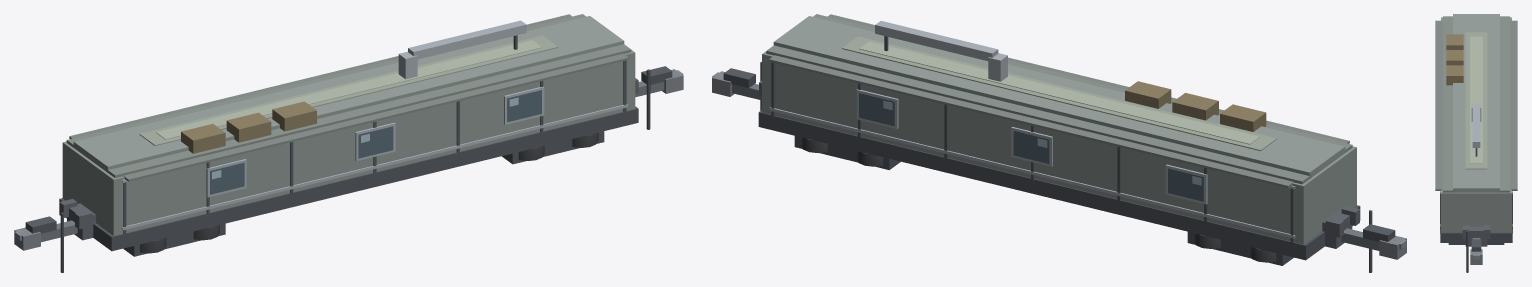
Rendered from repair.glb.
3 views of the same model, side by side, from view 1: azimuth 30°, elevation 25°; view 2: azimuth 150°, elevation 25°; view 3: azimuth 270°, elevation 25° (orthographic). The views are drawn at different scales.
Visible parts, largest first — view 1: repair; view 2: repair; view 3: repair.
Part boxes in pixels (<box>): repair: <box>14,14,683,272</box>; repair: <box>712,14,1406,272</box>; repair: <box>1435,14,1517,272</box>.
Bounding box in the file's own units: 24.68 × 4.65 × 3.82.
